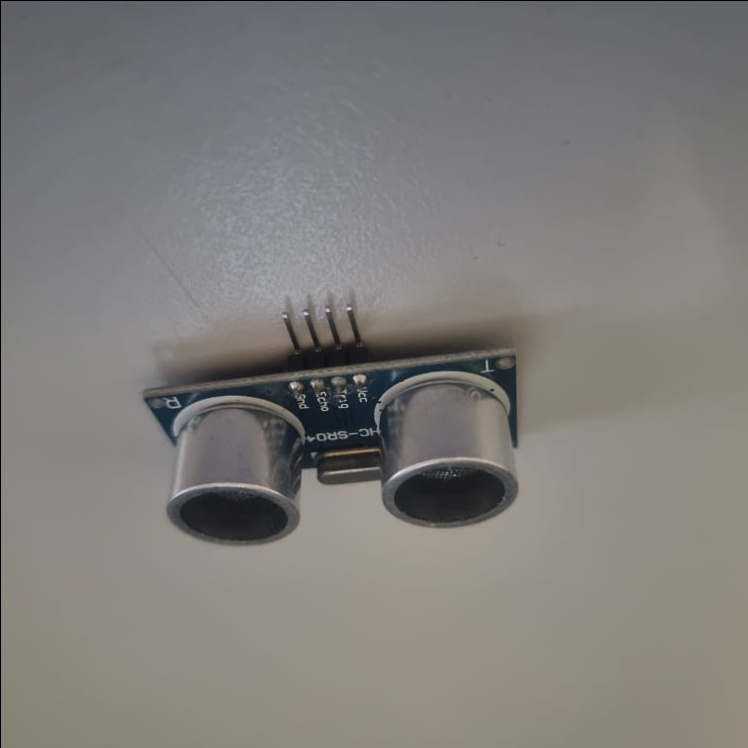SENSOR: (142, 307, 518, 543)
